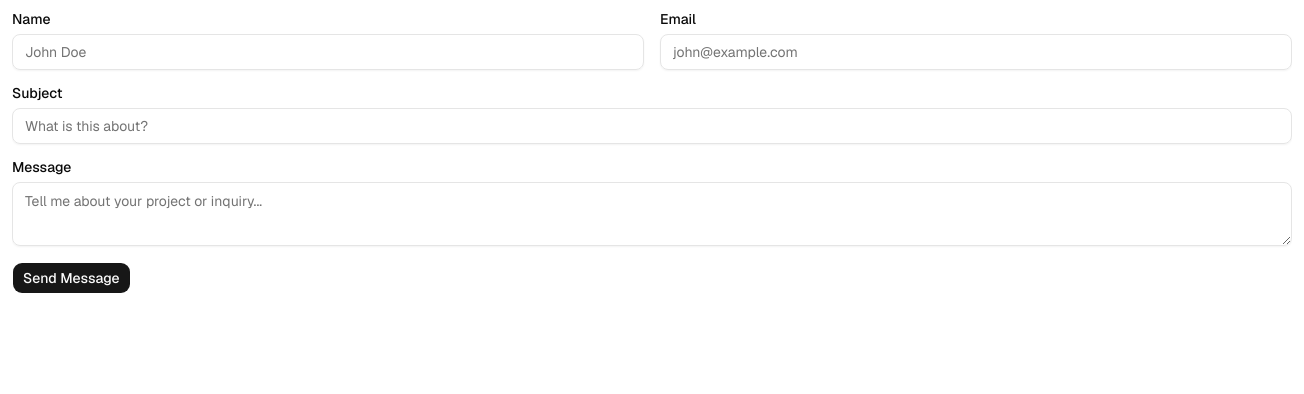
ContactForm › shows validation errors when submitting empty form
This screenshot has width=1304, height=394.
Click the button "Send Message" at point(71, 278), box [12, 262, 131, 294]
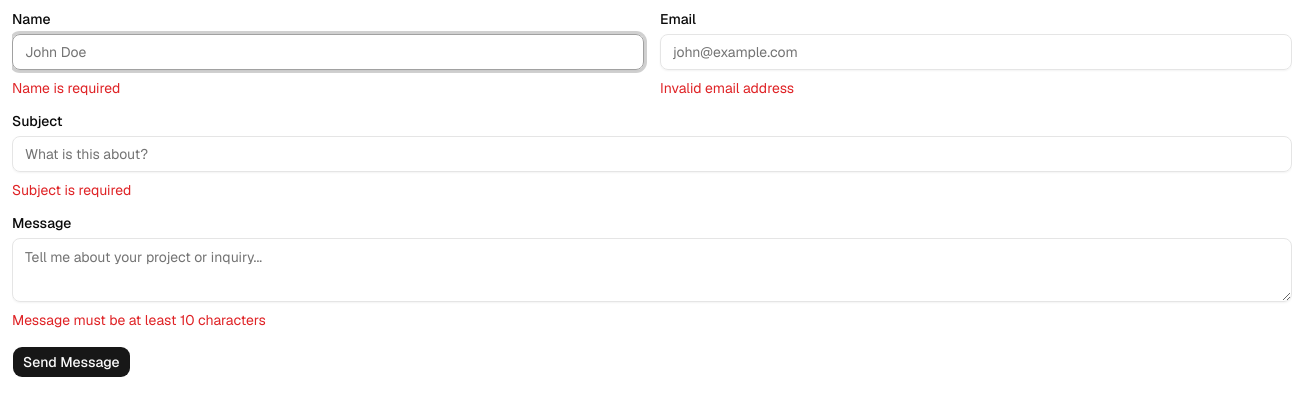
Check: the text "Name is required" is shown, box [12, 79, 120, 97]
Check: the text "Subject is required" is shown, box [12, 181, 131, 199]
